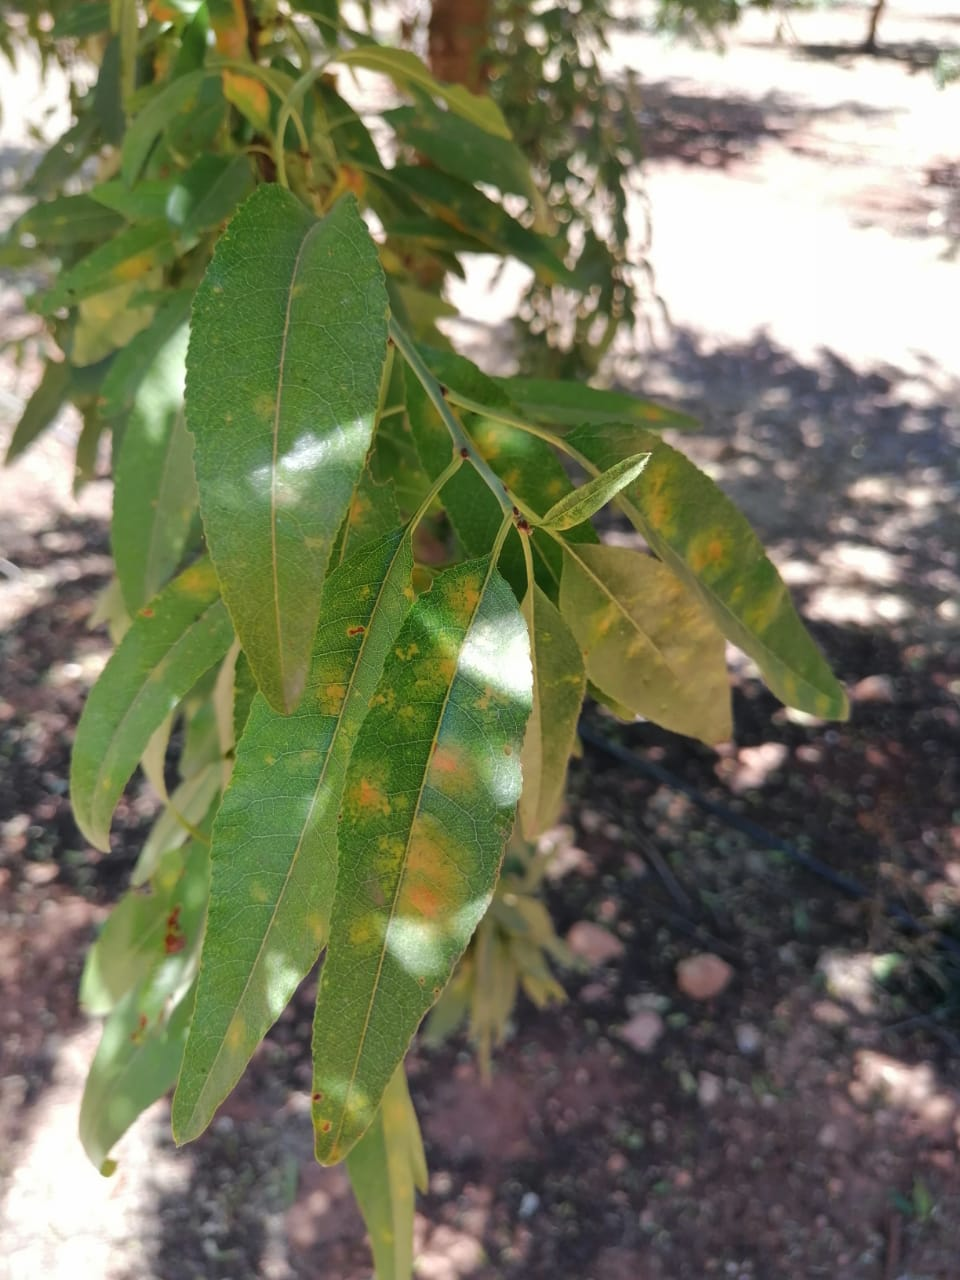polystigma: (167, 529, 415, 1148), (303, 554, 537, 1172), (186, 184, 395, 717), (524, 417, 852, 729), (557, 540, 736, 763)
